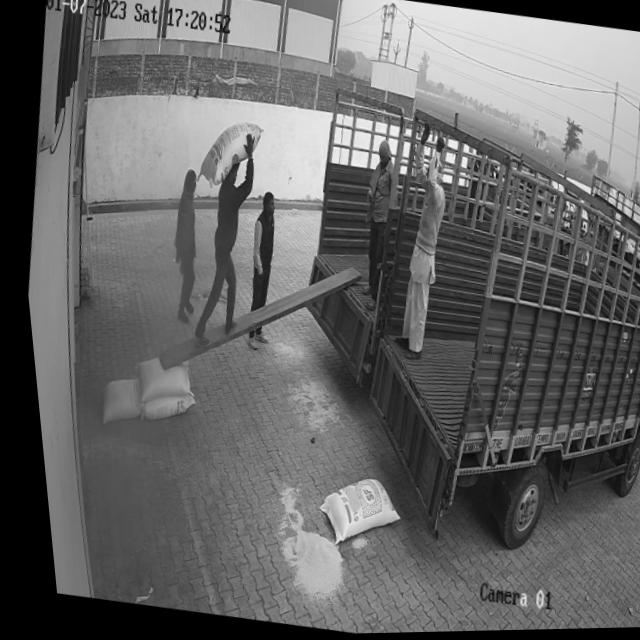sack: (302, 472, 397, 555), (187, 115, 266, 194), (122, 354, 187, 410), (88, 373, 138, 427), (133, 386, 188, 425)
